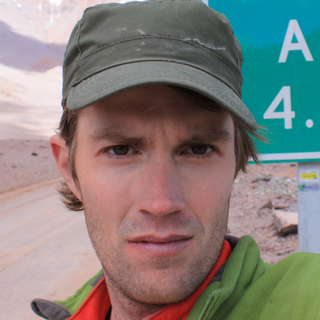eye: (173, 138, 222, 163), (97, 138, 146, 163)
